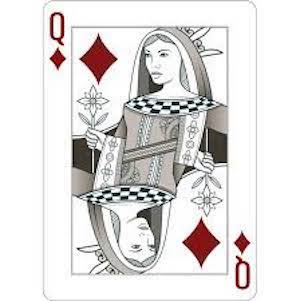QueenOfDiamonds: (39, 2, 259, 300)
